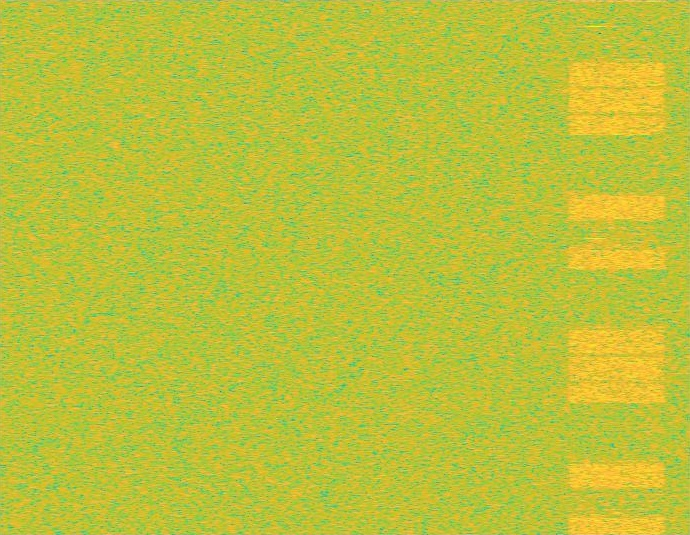LTE: (565, 0, 669, 534)
Radar: (589, 0, 602, 534)
